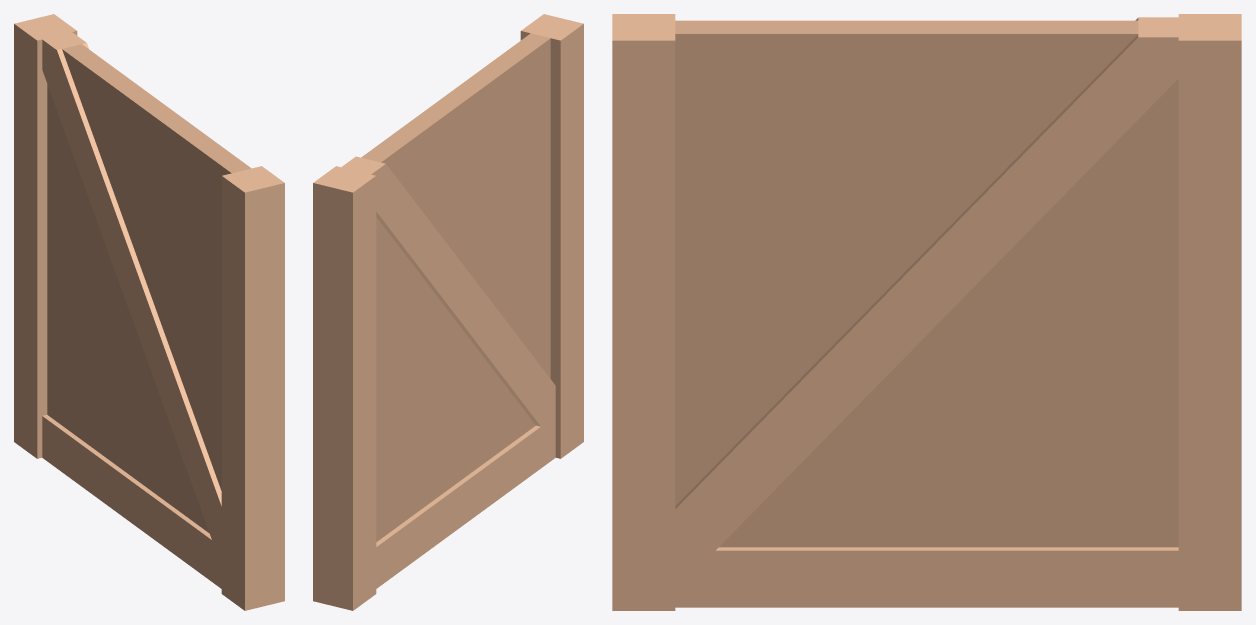
Rendered from wallWoodDetailDiagonal.glb.
3 views of the same model, side by side, from view 1: azimuth 30°, elevation 25°; view 2: azimuth 150°, elevation 25°; view 3: azimuth 270°, elevation 25° (orthographic). The views are drawn at different scales.
Visible parts, largest first — view 1: wallWoodDetailDiagonal; view 2: wallWoodDetailDiagonal; view 3: wallWoodDetailDiagonal.
Part boxes in pixels (x1,y1,x2,y2): wallWoodDetailDiagonal: [14, 14, 284, 610]; wallWoodDetailDiagonal: [313, 14, 583, 610]; wallWoodDetailDiagonal: [612, 14, 1241, 610].
Bounding box in the file's own units: 0.1 × 1 × 1.
